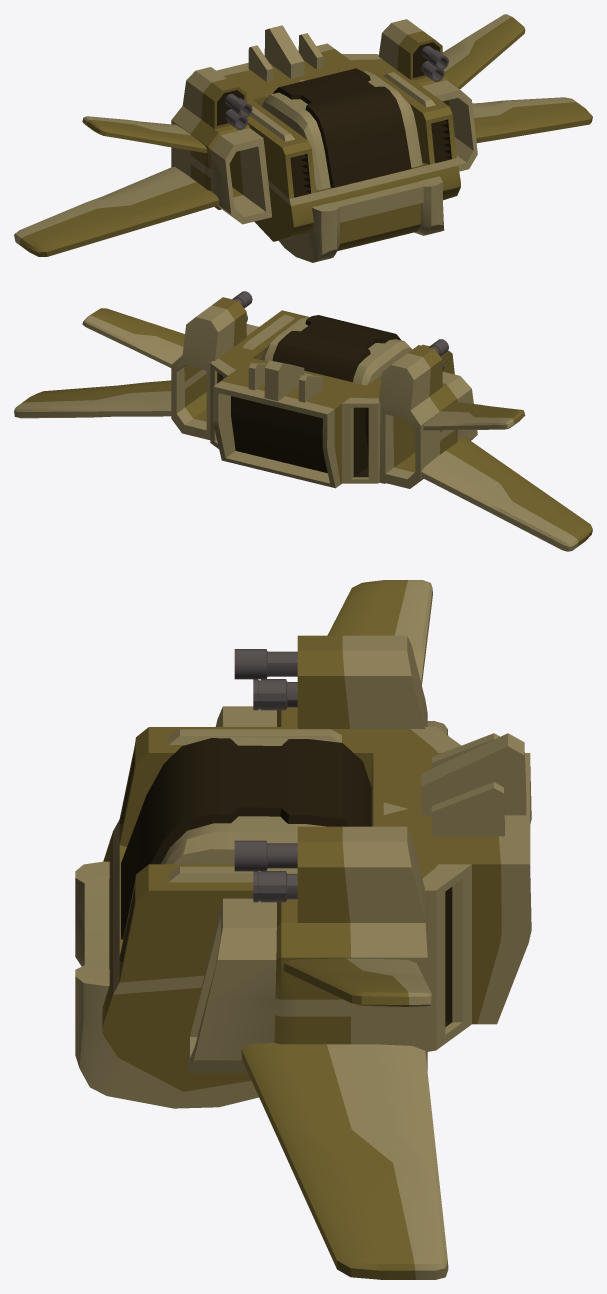
File: quaternius-ultimate-space-pack-spaceship-finn-the-frog-transformed.glb
3 renders of one model, top to bottom at view 1: azimuth 30°, elevation 25°; view 2: azimuth 150°, elevation 25°; view 3: azimuth 270°, elevation 25°, orthographic. The views are drawn at different scales.
Parts seen in each view (by area): view 1: Spaceship_FinnTheFrog; view 2: Spaceship_FinnTheFrog; view 3: Spaceship_FinnTheFrog.
Boxes of the visible parts, x1,y1,x2,y2 form: Spaceship_FinnTheFrog: (14, 14, 592, 262); Spaceship_FinnTheFrog: (14, 291, 592, 551); Spaceship_FinnTheFrog: (75, 580, 531, 1279).
Size of the model in its own units: 11.62 by 3.06 by 4.11.
Materials: 1 (1 with a texture image).
